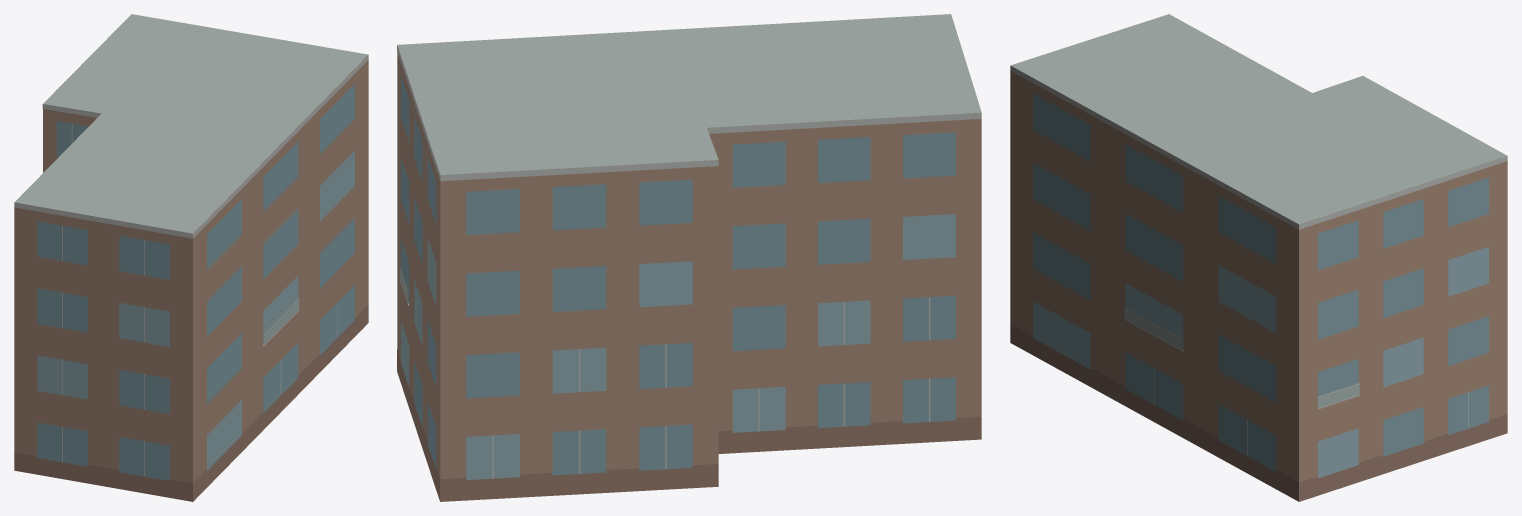
File: survey-upis-32739364.glb
The picture shows the model from 3 angles, left to right: view 1: azimuth 30°, elevation 25°; view 2: azimuth 150°, elevation 25°; view 3: azimuth 270°, elevation 25°; orthographic projection. The views are drawn at different scales.
Visible parts, largest first — view 1: survey-upis-32739364.tmp; view 2: survey-upis-32739364.tmp; view 3: survey-upis-32739364.tmp.
Boxes of the visible parts, <box> form: survey-upis-32739364.tmp: <box>14,14,368,501</box>; survey-upis-32739364.tmp: <box>397,14,981,501</box>; survey-upis-32739364.tmp: <box>1010,14,1507,501</box>.
Size of the model in its own units: 21.16 by 13 by 21.13.
